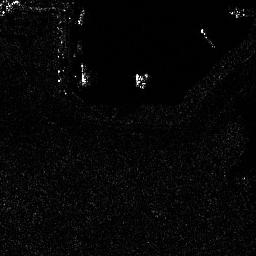ship: (199, 27, 216, 50)
